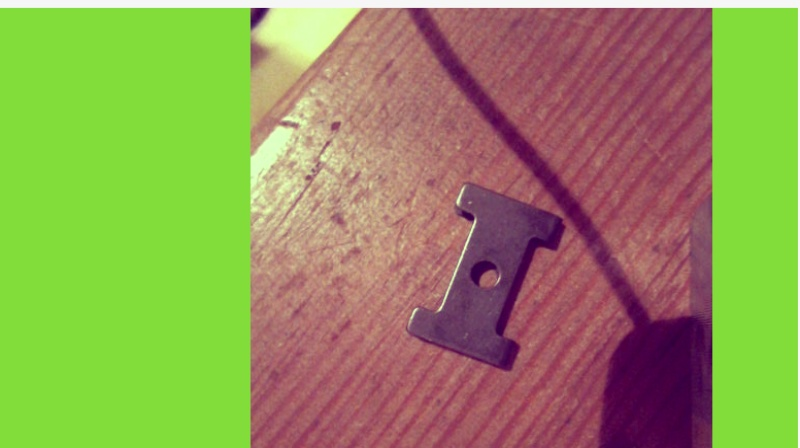O002: (403, 176, 566, 370)
S001: (458, 443, 649, 447)
